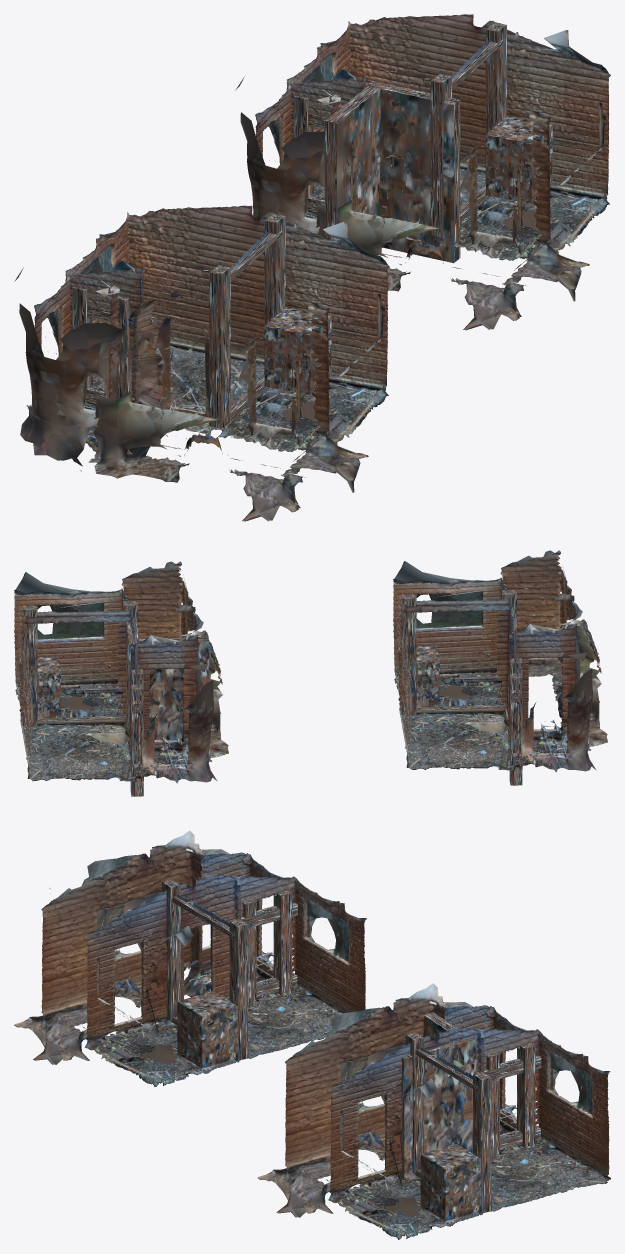
The model's file is mokki_combined_modified_compressed.glb.
The picture shows the model from 3 angles, top to bottom: view 1: azimuth 30°, elevation 25°; view 2: azimuth 150°, elevation 25°; view 3: azimuth 270°, elevation 25°; orthographic projection. The views are drawn at different scales.
Parts seen in each view (by area): view 1: Cube, Mesh_0_Part_0009, Mesh_0_Part_0008, Mesh_0_Part_0004, Mesh_0_Part_0010, Mesh_0_Part_0002, Mesh_0_Part_0005, Mesh_0_Part_0001, Mesh_0_Part_0006, Mesh_0_Part_0007, Mesh_0_Part_0003; view 2: Cube, Mesh_0_Part_0009, Mesh_0_Part_0008, Mesh_0_Part_0004, Mesh_0_Part_0002, Mesh_0_Part_0010, Mesh_0_Part_0001, Mesh_0_Part_0003, Mesh_0_Part_0005, Mesh_0_Part_0007, Mesh_0_Part_0006; view 3: Cube, Mesh_0_Part_0009, Mesh_0_Part_0002, Mesh_0_Part_0005, Mesh_0_Part_0006, Mesh_0_Part_0008, Mesh_0_Part_0004, Mesh_0_Part_0010, Mesh_0_Part_0001, Mesh_0_Part_0007, Mesh_0_Part_0003.
Boxes of the visible parts, x1=… form: Cube: x1=70, y1=22, x2=552, y2=428; Mesh_0_Part_0009: x1=65, y1=205, x2=273, y2=435; Mesh_0_Part_0008: x1=217, y1=221, x2=389, y2=451; Mesh_0_Part_0004: x1=439, y1=29, x2=610, y2=260; Mesh_0_Part_0010: x1=14, y1=260, x2=163, y2=466; Mesh_0_Part_0002: x1=286, y1=14, x2=494, y2=244; Mesh_0_Part_0005: x1=80, y1=283, x2=309, y2=521; Mesh_0_Part_0001: x1=235, y1=69, x2=362, y2=234; Mesh_0_Part_0006: x1=315, y1=92, x2=530, y2=330; Mesh_0_Part_0007: x1=502, y1=111, x2=589, y2=301; Mesh_0_Part_0003: x1=280, y1=302, x2=368, y2=492; Cube: x1=19, y1=590, x2=522, y2=796; Mesh_0_Part_0009: x1=399, y1=598, x2=519, y2=770; Mesh_0_Part_0008: x1=393, y1=561, x2=517, y2=714; Mesh_0_Part_0004: x1=14, y1=572, x2=138, y2=725; Mesh_0_Part_0002: x1=20, y1=609, x2=140, y2=781; Mesh_0_Part_0010: x1=515, y1=619, x2=596, y2=772; Mesh_0_Part_0001: x1=137, y1=630, x2=217, y2=783; Mesh_0_Part_0003: x1=500, y1=550, x2=562, y2=676; Mesh_0_Part_0005: x1=552, y1=566, x2=607, y2=750; Mesh_0_Part_0007: x1=121, y1=561, x2=182, y2=638; Mesh_0_Part_0006: x1=175, y1=577, x2=228, y2=762; Cube: x1=162, y1=879, x2=541, y2=1221; Mesh_0_Part_0009: x1=180, y1=875, x2=366, y2=1058; Mesh_0_Part_0002: x1=423, y1=1027, x2=610, y2=1211; Mesh_0_Part_0005: x1=14, y1=830, x2=203, y2=1047; Mesh_0_Part_0006: x1=258, y1=983, x2=447, y2=1200; Mesh_0_Part_0008: x1=85, y1=890, x2=244, y2=1086; Mesh_0_Part_0004: x1=328, y1=1043, x2=487, y2=1239; Mesh_0_Part_0010: x1=183, y1=843, x2=284, y2=996; Mesh_0_Part_0001: x1=429, y1=996, x2=528, y2=1147; Mesh_0_Part_0007: x1=276, y1=1040, x2=339, y2=1217; Mesh_0_Part_0003: x1=33, y1=888, x2=96, y2=1064.
Bounding box in the file's own units: 15.7 × 4.49 × 13.89.
11 materials, 11 textured.
